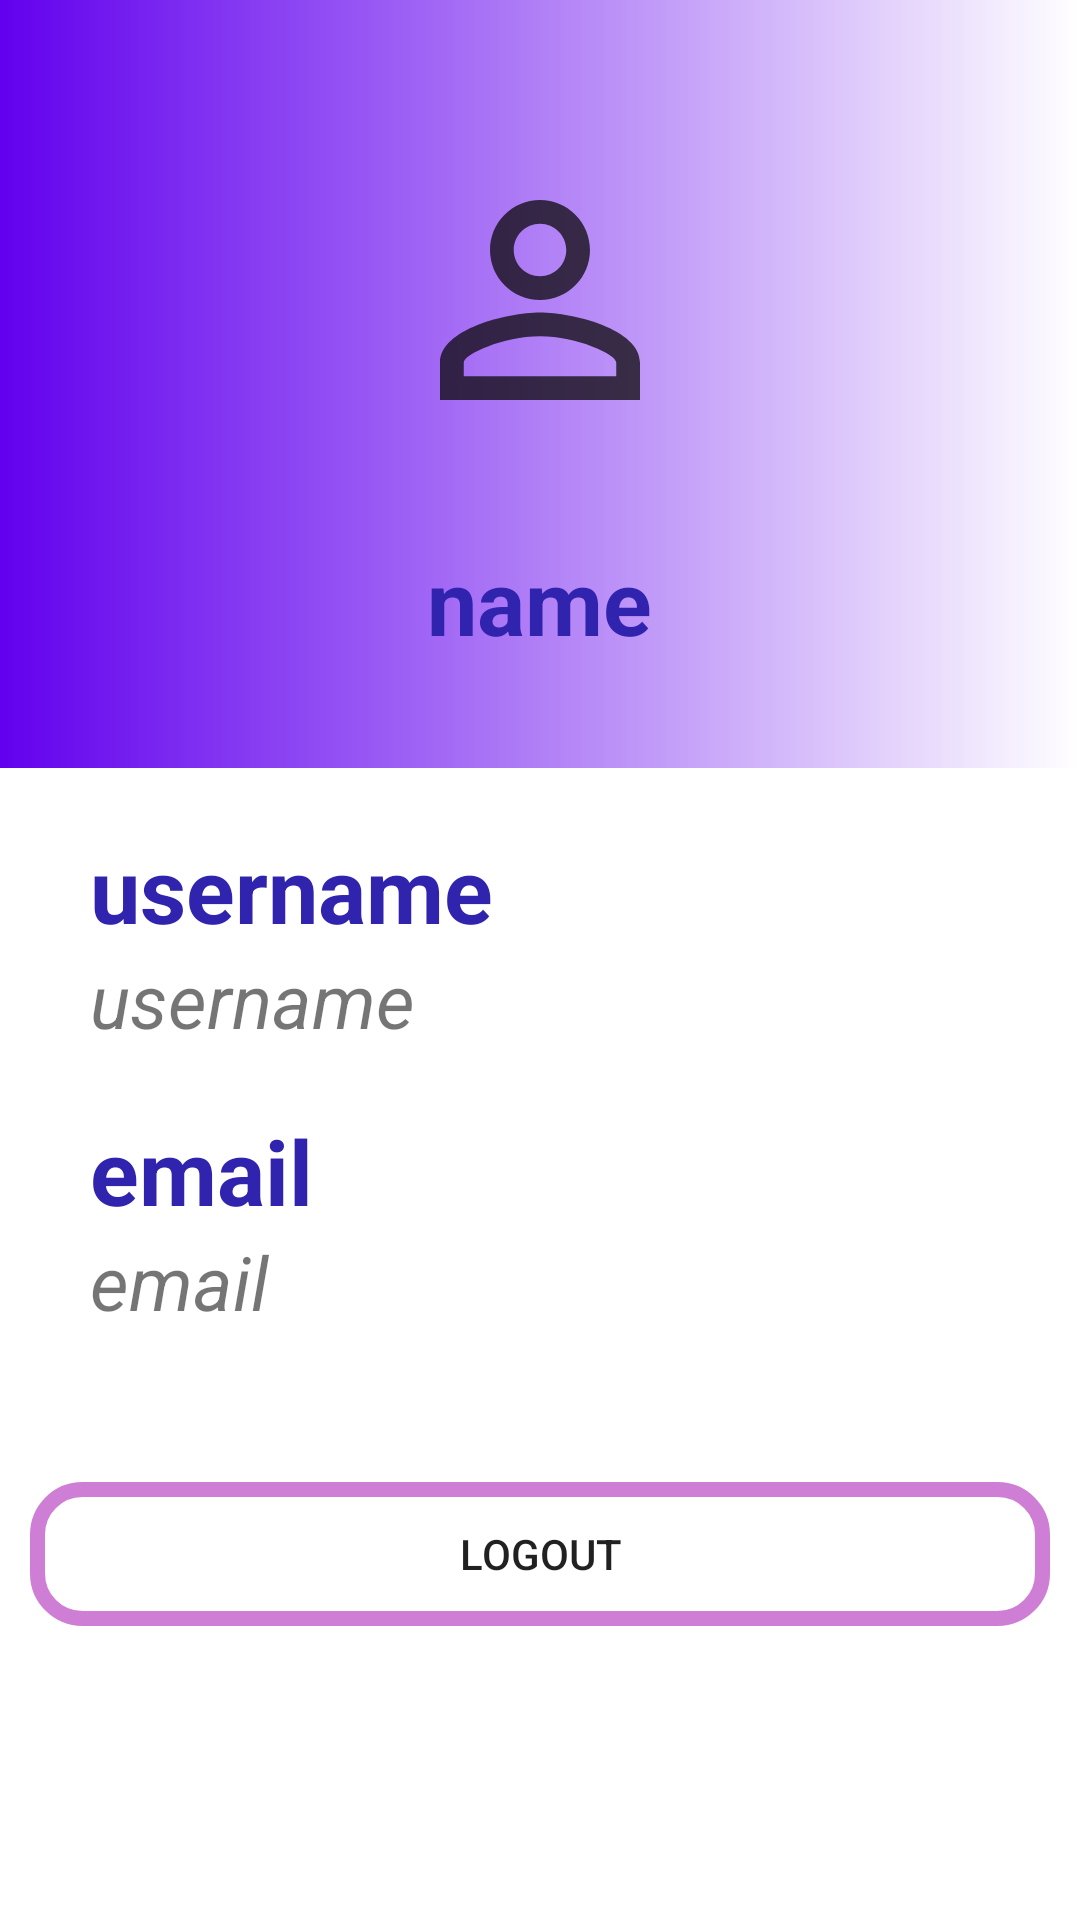

Icons on this 1080px×1920px Android screen, each with the point to tap as point (x, y):
person: point (540, 300)
